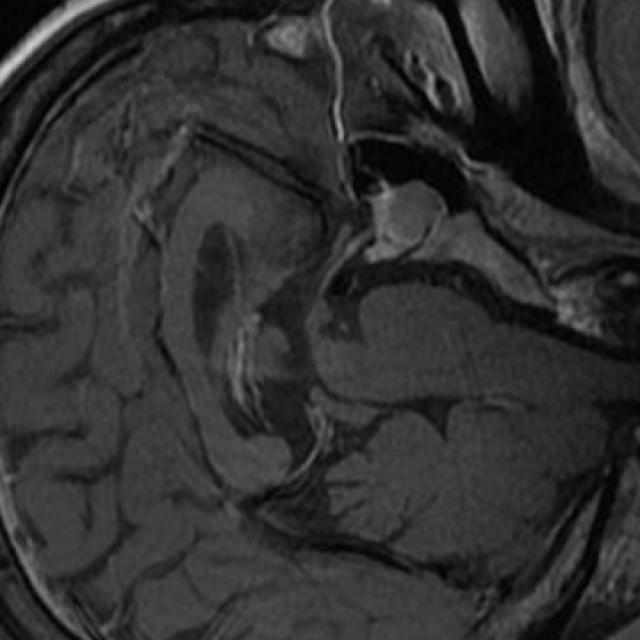pituitary: (365, 187, 444, 264)
